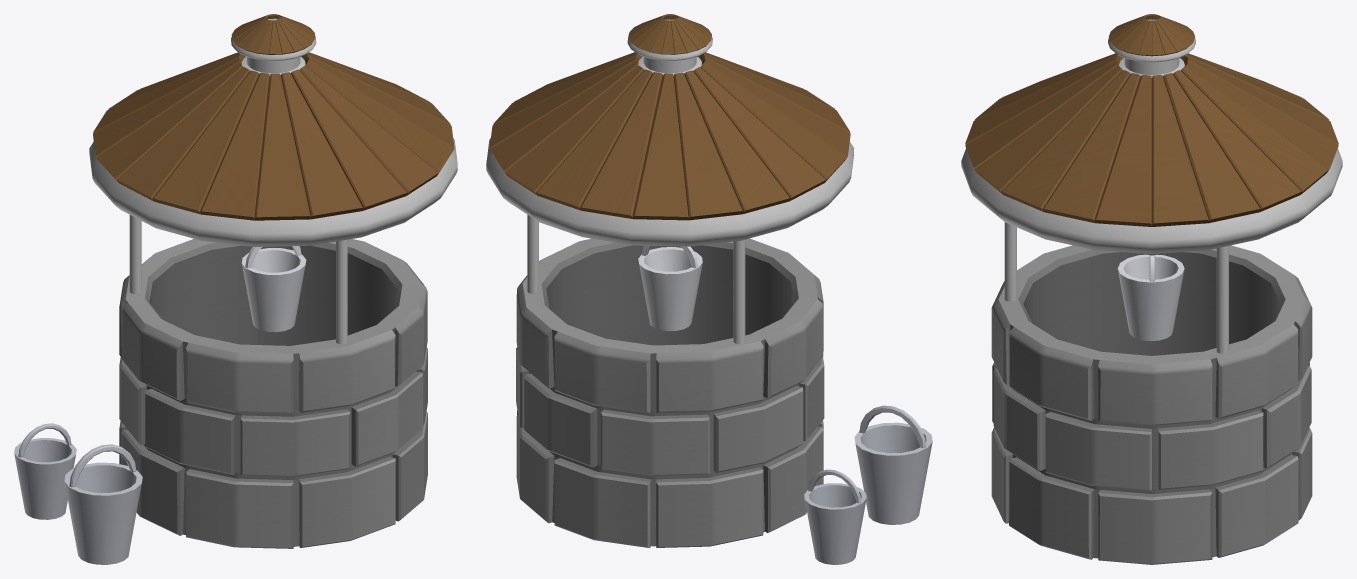
File: Well.fbx
3 views of the same model, side by side, from view 1: azimuth 30°, elevation 25°; view 2: azimuth 150°, elevation 25°; view 3: azimuth 270°, elevation 25° (orthographic). The views are drawn at different scales.
Parts seen in each view (by area): view 1: Well; view 2: Well; view 3: Well.
Part boxes in pixels (left/top/right/bottom): Well: left=14, top=14, right=457, bottom=564; Well: left=486, top=14, right=932, bottom=564; Well: left=961, top=14, right=1342, bottom=564.
Size of the model in its own units: 6.28 by 7.19 by 5.15.
